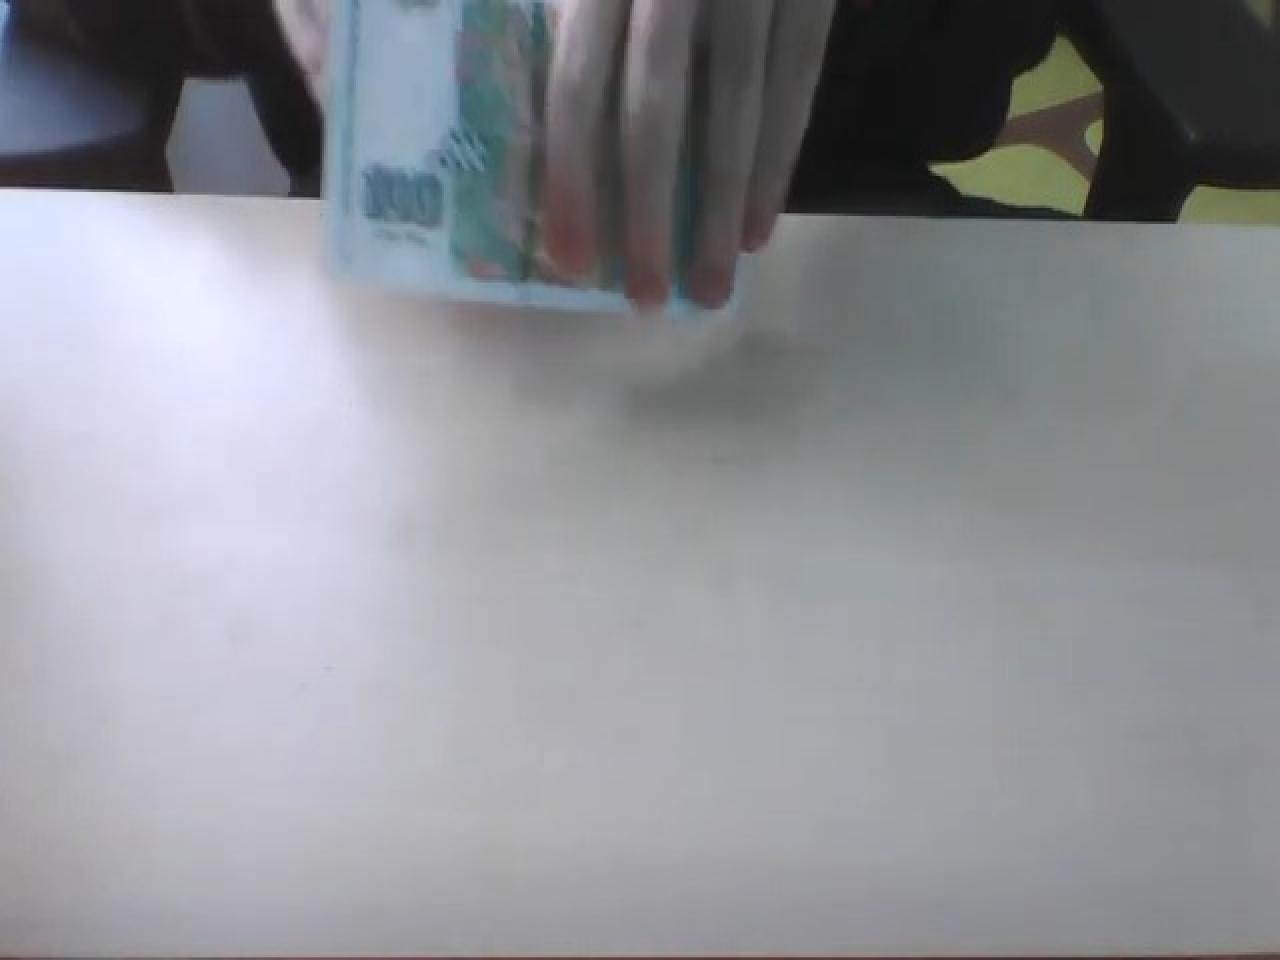100leva: (321, 0, 1276, 317), (356, 157, 444, 230)
